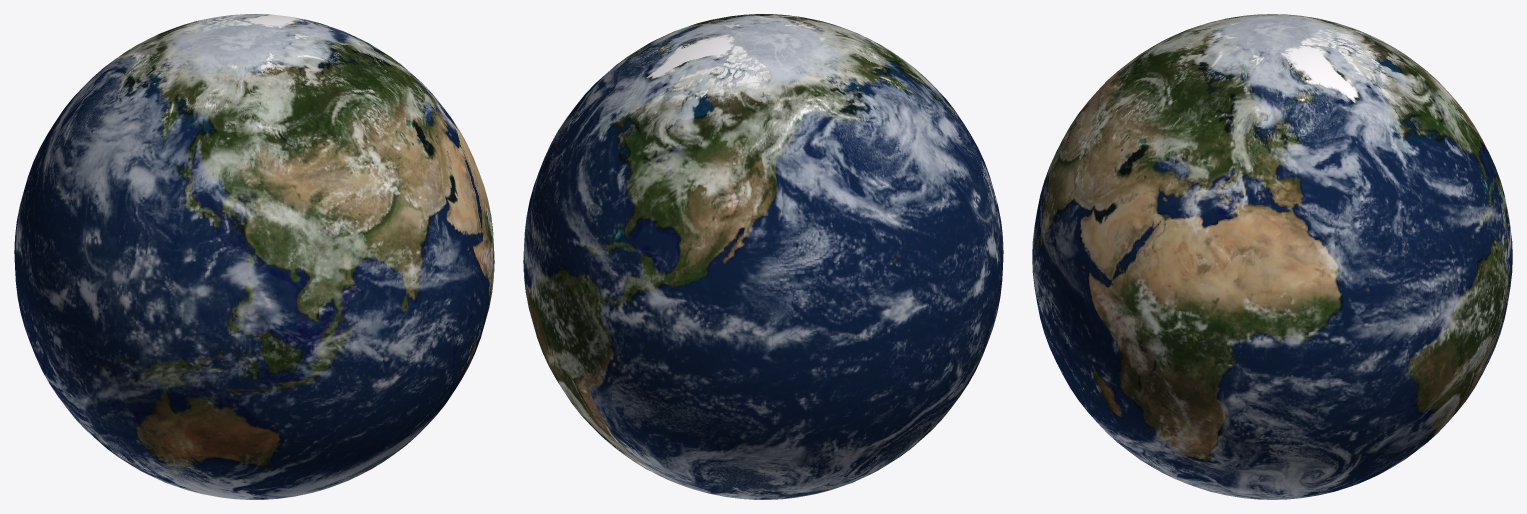
File: Earth.glb
3 renders of one model, left to right at view 1: azimuth 30°, elevation 25°; view 2: azimuth 150°, elevation 25°; view 3: azimuth 270°, elevation 25°, orthographic.
Parts seen in each view (by area): view 1: Earth; view 2: Earth; view 3: Earth.
Boxes of the visible parts, bbox=[...] form: Earth: bbox=[14, 14, 494, 499]; Earth: bbox=[523, 14, 1003, 499]; Earth: bbox=[1032, 14, 1512, 499].
Size of the model in its own units: 1.19 by 1.21 by 1.19.
Materials: 1 (1 with a texture image).
